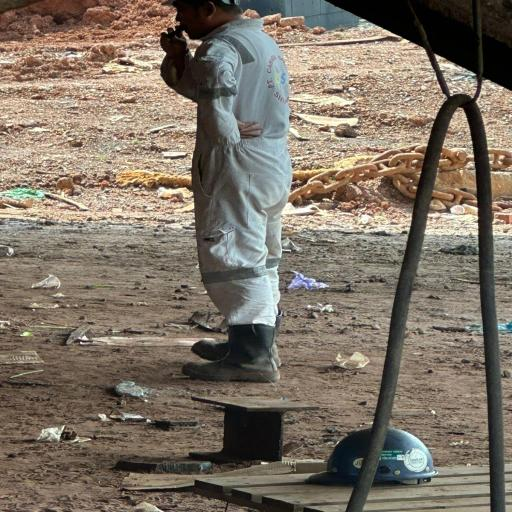safety_shoe: (176, 322, 282, 383)
